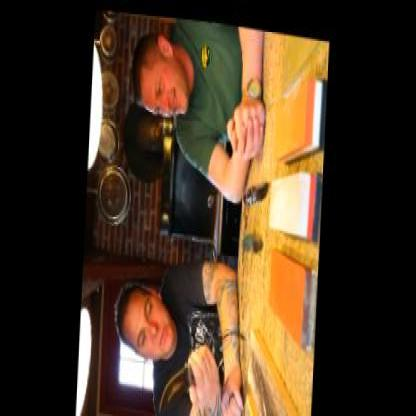knife: (155, 331, 208, 414)
